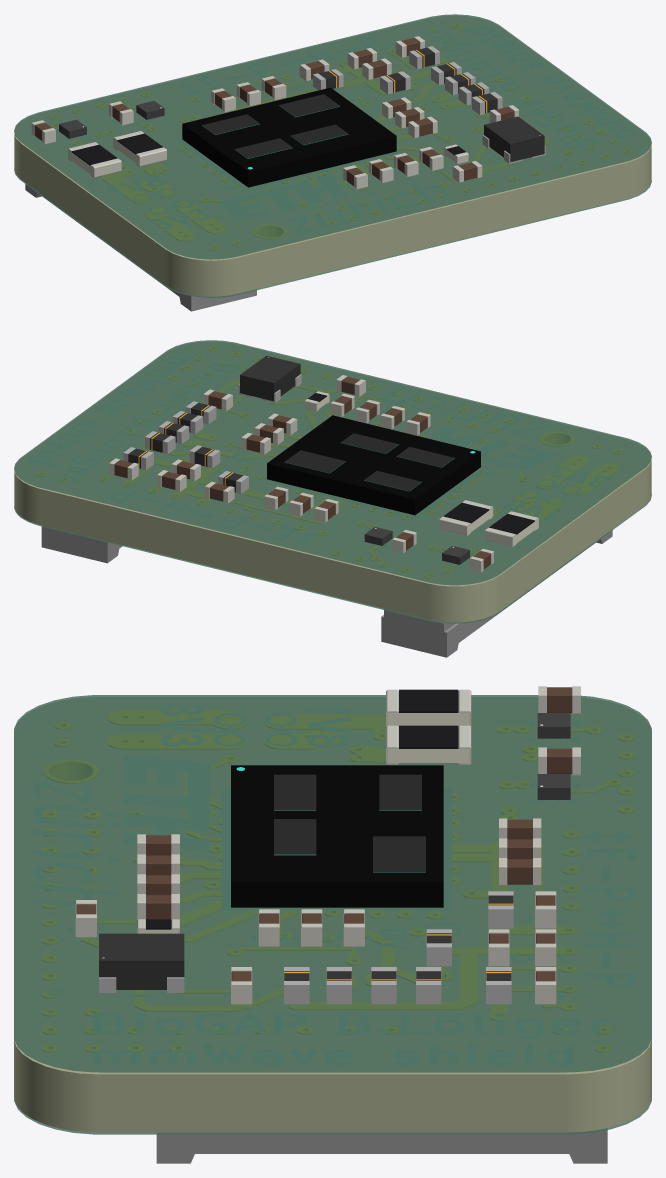
File: mmWave-shield-pcb.glb
The picture shows the model from 3 angles, top to bottom: view 1: azimuth 30°, elevation 25°; view 2: azimuth 150°, elevation 25°; view 3: azimuth 270°, elevation 25°; orthographic projection. The views are drawn at different scales.
Visible parts, largest first — view 1: =>[0:1:1:14], =>[0:1:1:13], Pad001, =>[0:1:1:12], =>[0:1:1:11], X1, R4, R3, J4, FB5, FB6, FB7 (+18 smaller); view 2: =>[0:1:1:14], =>[0:1:1:13], Pad001, =>[0:1:1:12], =>[0:1:1:11], J4, X1, J3, R4, R3, FB6, FB1 (+10 smaller); view 3: =>[0:1:1:14], =>[0:1:1:13], Pad001, =>[0:1:1:12], =>[0:1:1:11], J3, X1, R4, R3, C10, C20, C18 (+24 smaller).
Boxes of the visible parts, x1,y1,x2,y2 form: =>[0:1:1:14]: (14, 16, 651, 296); =>[0:1:1:13]: (14, 14, 651, 297); Pad001: (182, 87, 396, 187); =>[0:1:1:12]: (32, 25, 637, 235); =>[0:1:1:11]: (50, 24, 632, 249); X1: (482, 116, 545, 163); R4: (113, 131, 166, 166); R3: (68, 142, 121, 177); J4: (25, 184, 256, 311); FB5: (409, 46, 439, 69); FB6: (380, 71, 410, 94); FB7: (472, 92, 502, 114); =>[0:1:1:14]: (14, 342, 651, 622); =>[0:1:1:13]: (14, 340, 651, 623); Pad001: (267, 415, 480, 515); =>[0:1:1:12]: (27, 351, 610, 570); =>[0:1:1:11]: (37, 347, 622, 577); J4: (381, 530, 612, 657); X1: (238, 355, 301, 402); J3: (41, 526, 122, 563); R4: (439, 500, 493, 535); R3: (485, 511, 538, 546); FB6: (189, 445, 220, 468); FB1: (145, 431, 175, 454); =>[0:1:1:14]: (14, 697, 651, 1132); =>[0:1:1:13]: (14, 695, 651, 1134); Pad001: (231, 765, 443, 907); =>[0:1:1:12]: (32, 704, 636, 1065); =>[0:1:1:11]: (42, 710, 634, 1052); J3: (156, 1129, 607, 1163); X1: (99, 933, 184, 992); R4: (386, 725, 471, 764); R3: (386, 689, 471, 726); C10: (499, 858, 541, 885); C20: (538, 747, 580, 775); C18: (538, 686, 580, 713).
Bounding box in the file's own units: 0.021 × 0.00389 × 0.015.
